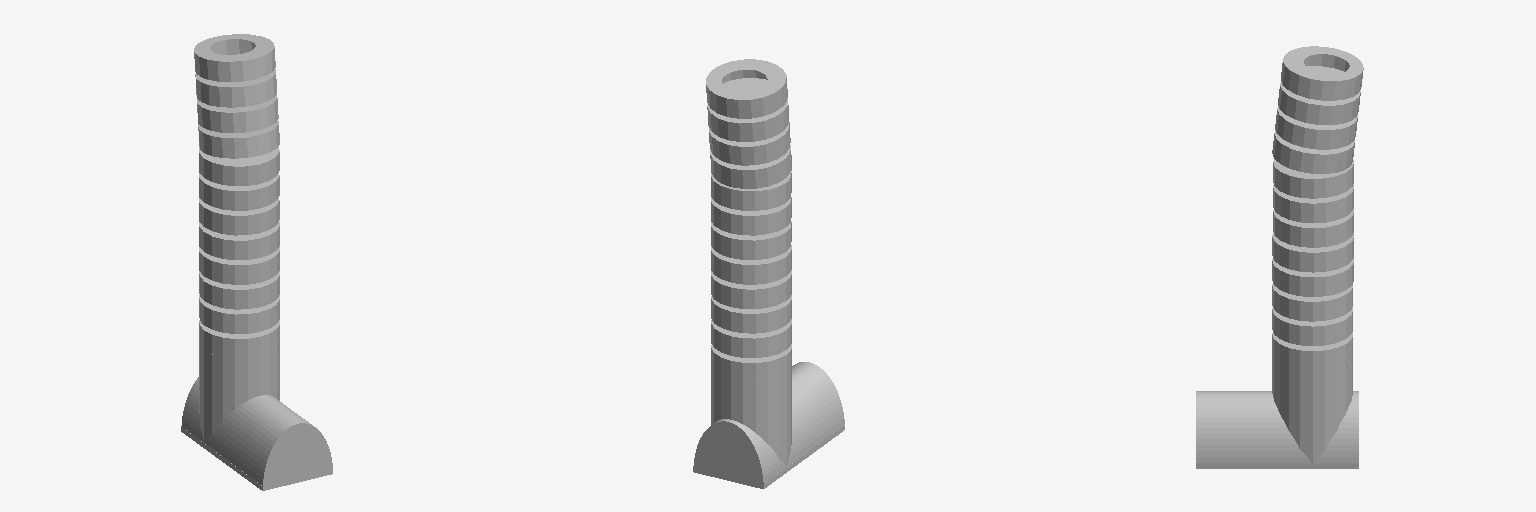
The model's file is pierna der.obj.
3 renders of one model, left to right at view 1: azimuth 30°, elevation 25°; view 2: azimuth 150°, elevation 25°; view 3: azimuth 270°, elevation 25°, orthographic.
Parts seen in each view (by area): view 1: pierna_der:polySurface56; view 2: pierna_der:polySurface56; view 3: pierna_der:polySurface56.
Boxes of the visible parts, x1,y1,x2,y2 form: pierna_der:polySurface56: [181, 34, 332, 490]; pierna_der:polySurface56: [693, 59, 844, 488]; pierna_der:polySurface56: [1196, 46, 1363, 468].
Bounding box in the file's own units: 0.2781 × 1.48 × 0.5729.